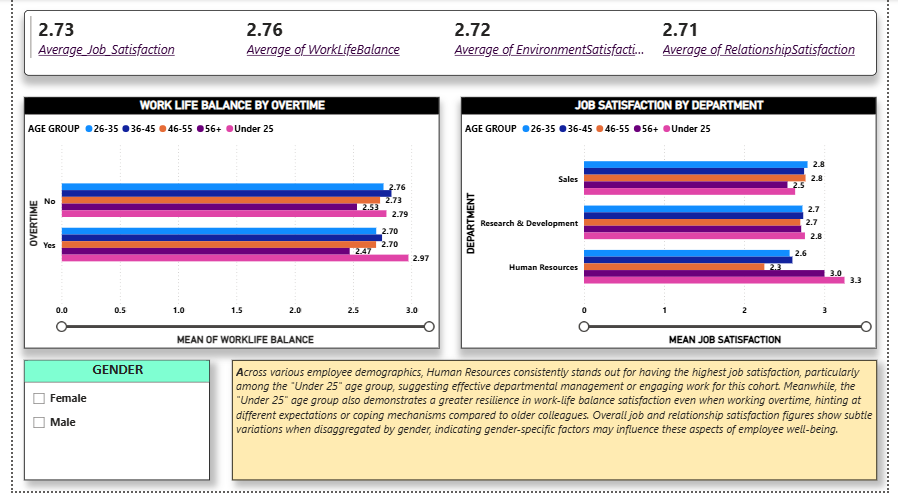

The page's visual inventory and layout, read from the dashboard file:
{"tool":"powerbi","page":{"name":"Page 5-Satisafction & WorkLife","canvas":[1280,720],"ordinal":4},"visuals":[{"type":"multiRowCard","fields":{"Values":["View.Average_Job_Satisfaction","Avg(HR Employee Attrition.WorkLifeBalance)","Avg(HR Employee Attrition.EnvironmentSatisfaction)","Avg(HR Employee Attrition.RelationshipSatisfaction)"]},"box":[16,16,1248,96],"z":0},{"type":"clusteredBarChart","title":"WORK LIFE BALANCE BY OVERTIME","fields":{"Category":["HR Employee Attrition.Overtime"],"Y":["Avg(HR Employee Attrition.WorkLifeBalance)"],"Series":["HR Employee Attrition.Age Group"]},"box":[16,144,608,368],"z":1000},{"type":"clusteredBarChart","title":"JOB SATISFACTION BY DEPARTMENT","fields":{"Category":["HR Employee Attrition.Department"],"Y":["View.Average_Job_Satisfaction"],"Series":["HR Employee Attrition.Age Group"]},"box":[656,144,608,368],"z":2000},{"type":"slicer","title":"GENDER","fields":{"Values":["HR Employee Attrition.Gender"]},"box":[16,528,272,176],"z":3000},{"type":"textbox","box":[320,528,944,176],"z":4000}]}

Visuals, with their boxes in screenshot pixels (x1, y1, x2, y2), scaled from the page's 1280x720 canvas onto the 898x497 screenshot:
multiRowCard - View.Average_Job_Satisfaction x Avg(HR Employee Attrition.WorkLifeBalance): {"left": 11, "top": 11, "right": 887, "bottom": 77}
"WORK LIFE BALANCE BY OVERTIME" clusteredBarChart: {"left": 11, "top": 99, "right": 438, "bottom": 353}
"JOB SATISFACTION BY DEPARTMENT" clusteredBarChart: {"left": 460, "top": 99, "right": 887, "bottom": 353}
"GENDER" slicer: {"left": 11, "top": 364, "right": 202, "bottom": 486}
textbox: {"left": 224, "top": 364, "right": 887, "bottom": 486}
